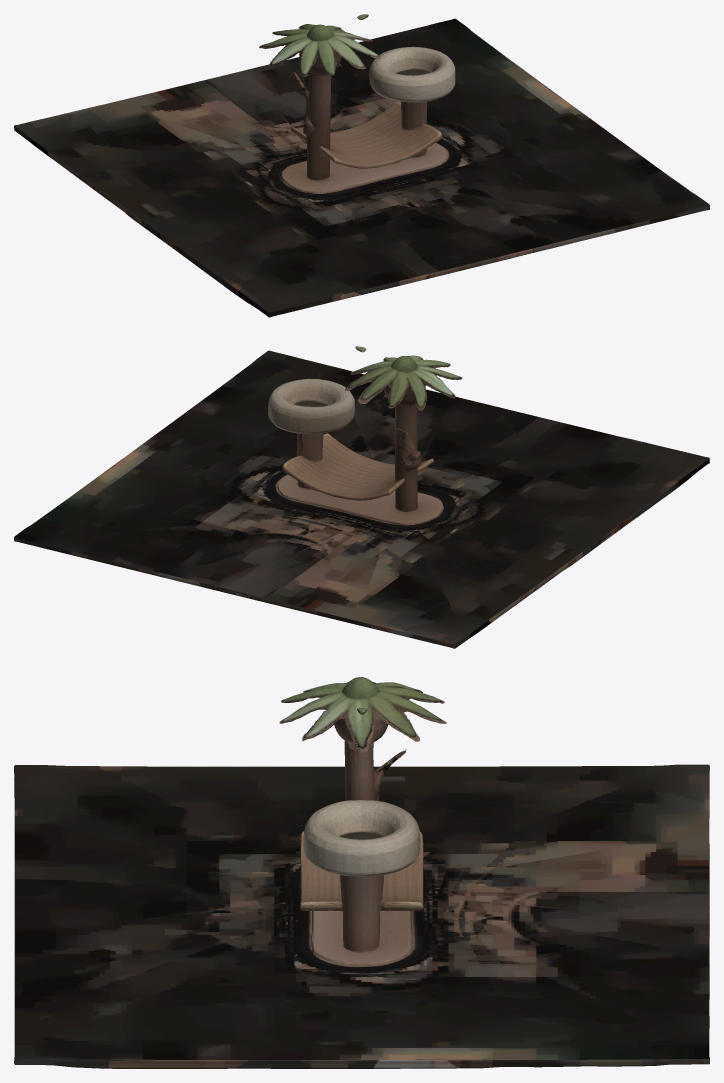
The picture shows the model from 3 angles, top to bottom: view 1: azimuth 30°, elevation 25°; view 2: azimuth 150°, elevation 25°; view 3: azimuth 270°, elevation 25°; orthographic projection. The views are drawn at different scales.
Visible parts, largest first — view 1: world; view 2: world; view 3: world.
Part boxes in pixels (x1=…): world: x1=14, y1=14, x2=709, y2=317; world: x1=14, y1=346, x2=709, y2=648; world: x1=14, y1=677, x2=709, y2=1068.
Size of the model in its own units: 1 by 0.3434 by 1.
Materials: 1 (1 with a texture image).
